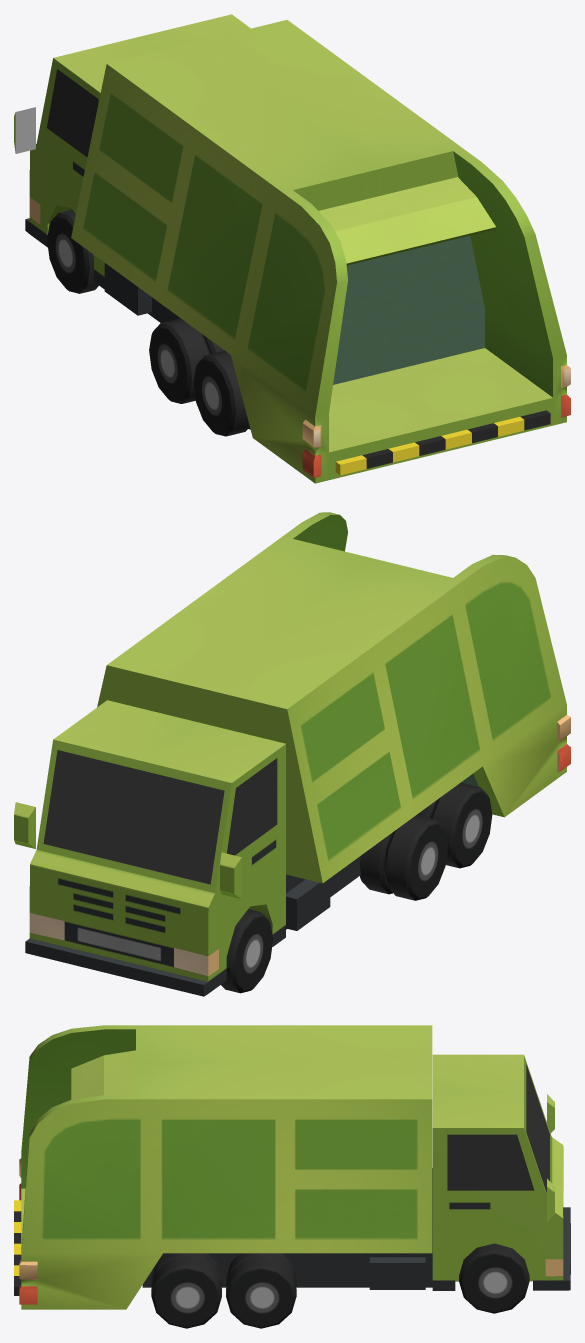
File: BI_Rubbish_truck_model.fbx
3 renders of one model, top to bottom at view 1: azimuth 30°, elevation 25°; view 2: azimuth 150°, elevation 25°; view 3: azimuth 270°, elevation 25°, orthographic. The views are drawn at different scales.
Visible parts, largest first — view 1: BI_Rubbish_truck_model; view 2: BI_Rubbish_truck_model; view 3: BI_Rubbish_truck_model.
Part boxes in pixels (bbox=[...]): BI_Rubbish_truck_model: bbox=[14, 14, 570, 483]; BI_Rubbish_truck_model: bbox=[14, 512, 570, 996]; BI_Rubbish_truck_model: bbox=[14, 1025, 570, 1328].
Size of the model in its own units: 396 by 370 by 872.
